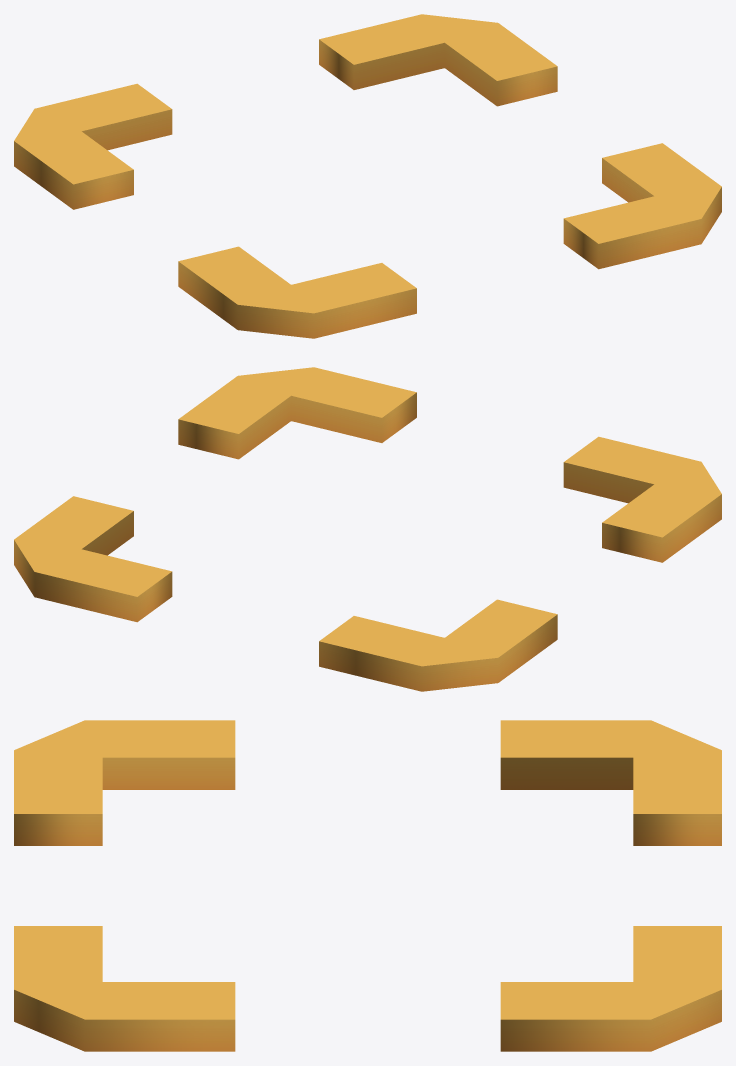
Rendered from kenney-tower-defense-selection-a.glb.
3 renders of one model, top to bottom at view 1: azimuth 30°, elevation 25°; view 2: azimuth 150°, elevation 25°; view 3: azimuth 270°, elevation 25°, orthographic. The views are drawn at different scales.
Parts seen in each view (by area): view 1: selection-a; view 2: selection-a; view 3: selection-a.
Boxes of the visible parts, x1,y1,x2,y2 form: selection-a: (14, 14, 721, 338); selection-a: (14, 367, 721, 691); selection-a: (14, 720, 721, 1051).
Bounding box in the file's own units: 1 × 0.0501 × 1.
Materials: 1 (1 with a texture image).
